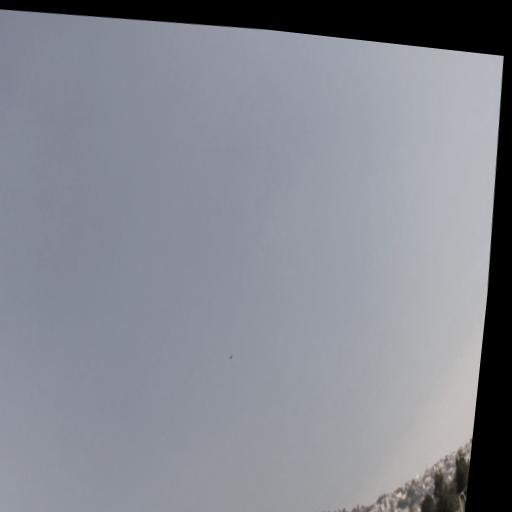drones: (228, 352, 234, 362)
